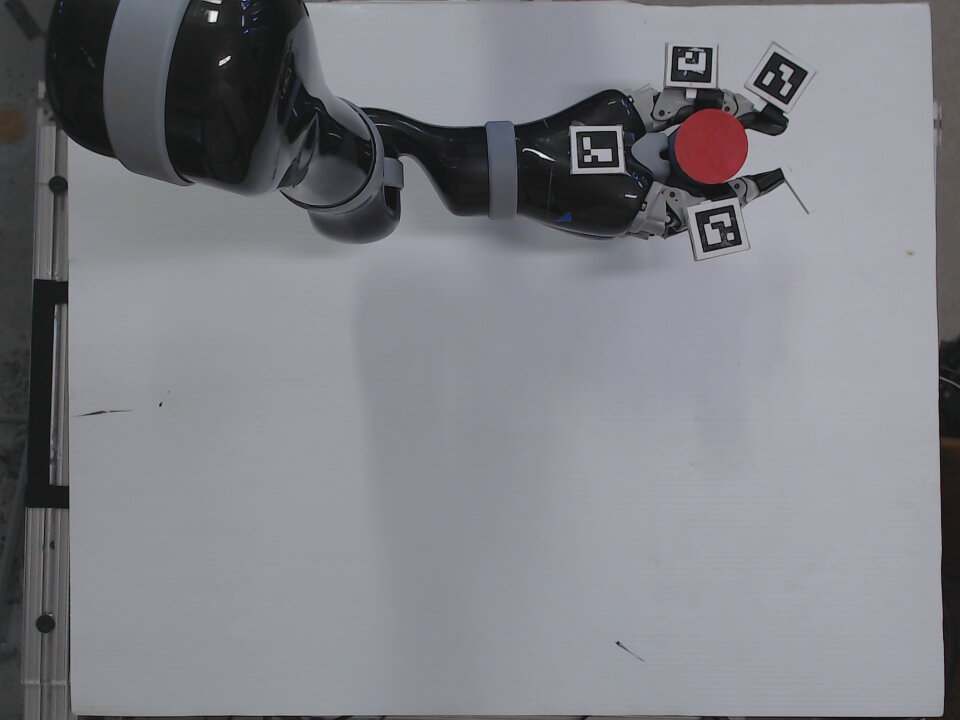cylinder: (662, 105, 753, 191)
